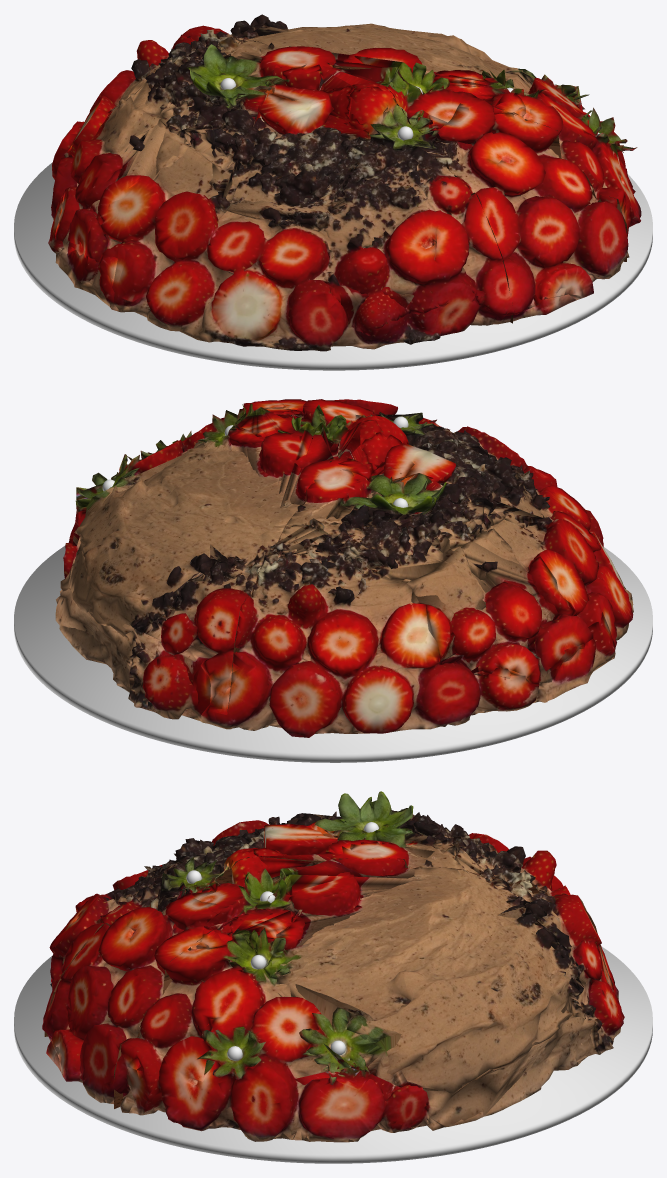
Rendered from atelier-cake.glb.
3 views of the same model, one above another, from view 1: azimuth 30°, elevation 25°; view 2: azimuth 150°, elevation 25°; view 3: azimuth 270°, elevation 25° (orthographic).
Parts seen in each view (by area): view 1: strawberry_chocolate_cake, CakeBody_surface.001, CakeBoard, CakeSlice_surface, CakeBody_surface; view 2: strawberry_chocolate_cake, CakeBody_surface.001, CakeBody_surface, CakeBoard, CakeSlice_surface; view 3: strawberry_chocolate_cake, CakeBody_surface, CakeBoard, CakeBody_surface.001, CakeSlice_surface.
Boxes of the visible parts, left/top/right/bottom form: strawberry_chocolate_cake: left=50, top=14, right=640, bottom=351; CakeBody_surface.001: left=48, top=29, right=513, bottom=351; CakeBoard: left=14, top=162, right=652, bottom=370; CakeSlice_surface: left=340, top=67, right=628, bottom=321; CakeBody_surface: left=182, top=14, right=641, bottom=257; strawberry_chocolate_cake: left=55, top=399, right=633, bottom=737; CakeBody_surface.001: left=227, top=413, right=633, bottom=737; CakeBody_surface: left=55, top=400, right=333, bottom=723; CakeBoard: left=14, top=546, right=652, bottom=762; CakeSlice_surface: left=278, top=399, right=395, bottom=456; strawberry_chocolate_cake: left=42, top=791, right=624, bottom=1142; CakeBody_surface: left=113, top=858, right=624, bottom=1142; CakeBoard: left=14, top=946, right=652, bottom=1163; CakeBody_surface.001: left=43, top=792, right=614, bottom=1019; CakeSlice_surface: left=44, top=856, right=324, bottom=1104.
Bounding box in the file's own units: 3.56 × 1.13 × 3.56.
Materials: 3 (2 with a texture image).
